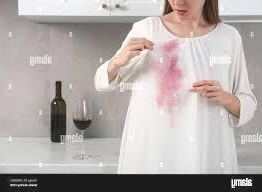wine: (154, 41, 181, 125)
